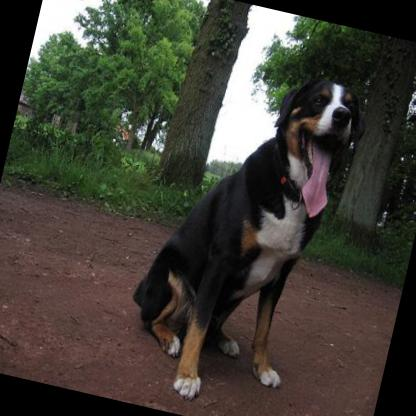Appenzeller: (111, 42, 374, 416)
